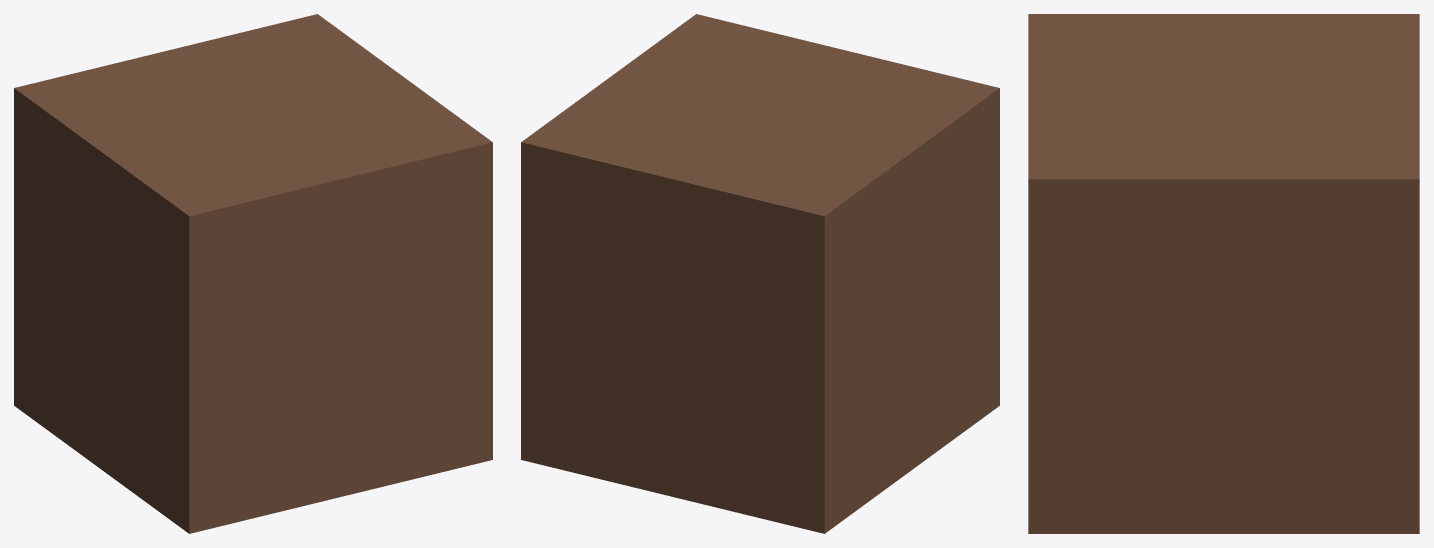
The model's file is DirtBlock.fbx.
The picture shows the model from 3 angles, left to right: view 1: azimuth 30°, elevation 25°; view 2: azimuth 150°, elevation 25°; view 3: azimuth 270°, elevation 25°; orthographic projection. The views are drawn at different scales.
Visible parts, largest first — view 1: Cube.006; view 2: Cube.006; view 3: Cube.006.
Boxes of the visible parts, x1=… form: Cube.006: x1=14, y1=14, x2=492, y2=533; Cube.006: x1=521, y1=14, x2=999, y2=533; Cube.006: x1=1028, y1=14, x2=1419, y2=533.
Size of the model in its own units: 1 by 1 by 1.
